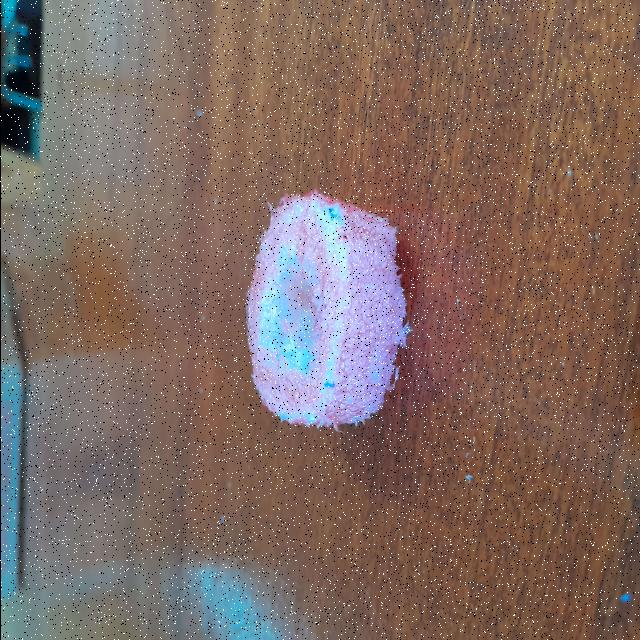wheel: (240, 188, 408, 437)
